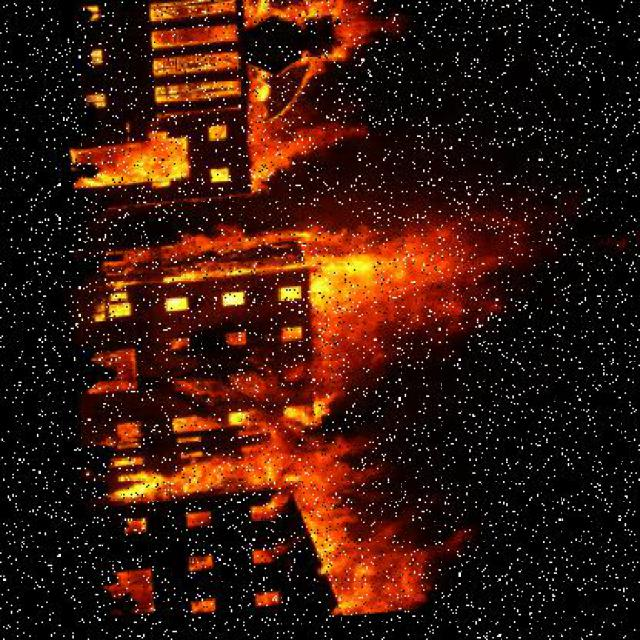fire: (144, 204, 540, 633)
